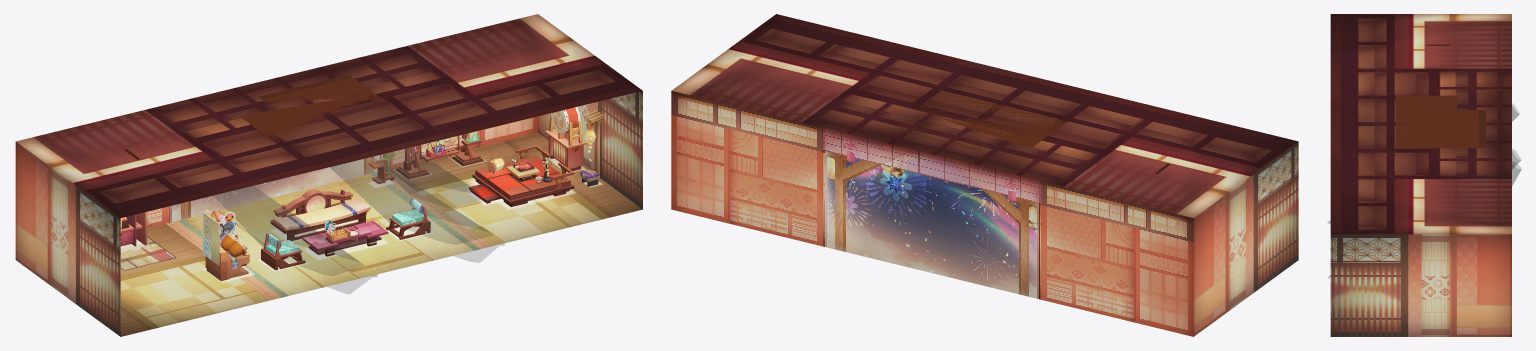
Rendered from taiko.glb.
3 renders of one model, left to right at view 1: azimuth 30°, elevation 25°; view 2: azimuth 150°, elevation 25°; view 3: azimuth 270°, elevation 25°, orthographic. The views are drawn at different scales.
Visible parts, largest first — view 1: ROOM_room_01, ROOM_floor, ROOM_light, furniM_taiko_largeLight_01, furniM_taiko_tatami_02, furniM_taiko_bench_02, furniM_taiko_teapoy_02, furniM_taiko_musicPlayer_02, furniM_taiko_musicPlayer_01, furniM_taiko_taikoTable_02, furniM_taiko_bambooCarpet_01, furniM_taiko_messageBoard_01 (+11 smaller); view 2: ROOM_room_01, furniM_taiko_largeLight_01, ROOM_Ldoor; view 3: ROOM_room_01, furniM_taiko_largeLight_01, ROOM_Rdoor, ROOM_light.
Boxes of the visible parts, x1=… form: ROOM_room_01: x1=15, y1=14, x2=642, y2=336; ROOM_floor: x1=120, y1=133, x2=642, y2=336; ROOM_light: x1=214, y1=147, x2=504, y2=293; furniM_taiko_largeLight_01: x1=241, y1=74, x2=392, y2=142; furniM_taiko_tatami_02: x1=472, y1=145, x2=574, y2=204; furniM_taiko_bench_02: x1=270, y1=189, x2=370, y2=233; furniM_taiko_teapoy_02: x1=302, y1=219, x2=388, y2=254; furniM_taiko_musicPlayer_02: x1=202, y1=209, x2=249, y2=267; furniM_taiko_musicPlayer_01: x1=205, y1=233, x2=248, y2=281; furniM_taiko_taikoTable_02: x1=549, y1=107, x2=582, y2=166; furniM_taiko_bambooCarpet_01: x1=120, y1=237, x2=175, y2=270; furniM_taiko_messageBoard_01: x1=396, y1=133, x2=484, y2=179; ROOM_room_01: x1=671, y1=14, x2=1298, y2=336; furniM_taiko_largeLight_01: x1=891, y1=92, x2=1066, y2=151; ROOM_Ldoor: x1=1275, y1=213, x2=1288, y2=276; ROOM_room_01: x1=1330, y1=14, x2=1511, y2=336; furniM_taiko_largeLight_01: x1=1395, y1=95, x2=1485, y2=148; ROOM_Rdoor: x1=1347, y1=290, x2=1370, y2=336; ROOM_light: x1=1327, y1=104, x2=1521, y2=278.
Bounding box in the file's own units: 10.15 × 2.42 × 3.78.
Materials: 7 (7 with a texture image).
